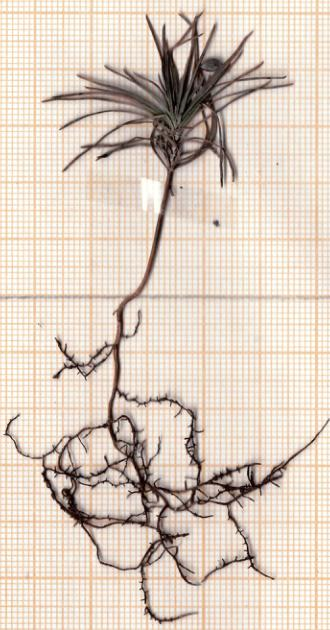flower: (38, 8, 298, 182)
root: (0, 304, 330, 626)
stem: (116, 174, 183, 304)
